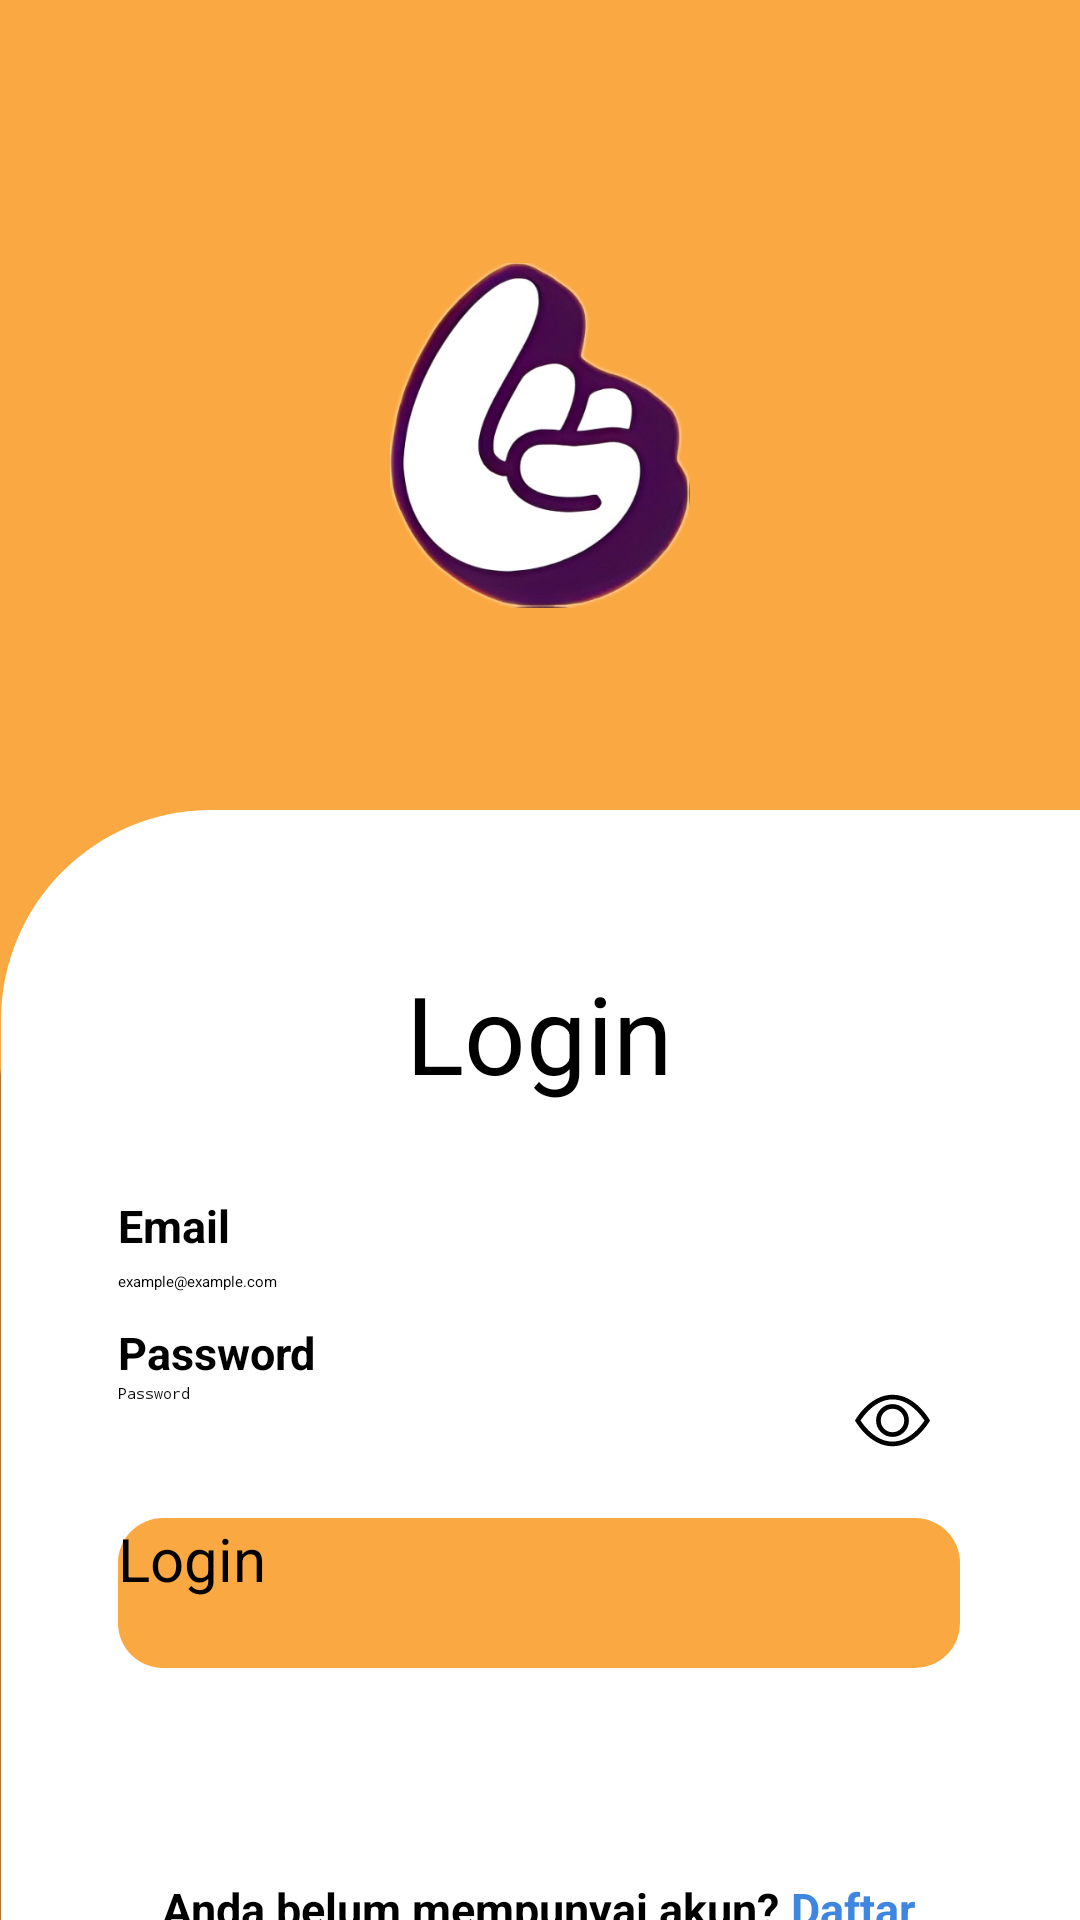

Icons on this 1080w x 1920h Android screen, each with its box as (x1, y1, x2, y2):
eye: (855, 1394, 930, 1447)
